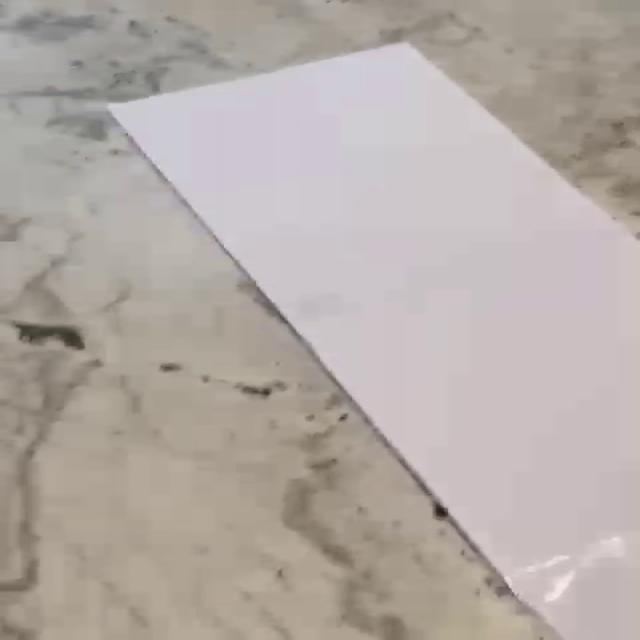road: (109, 44, 639, 640)
